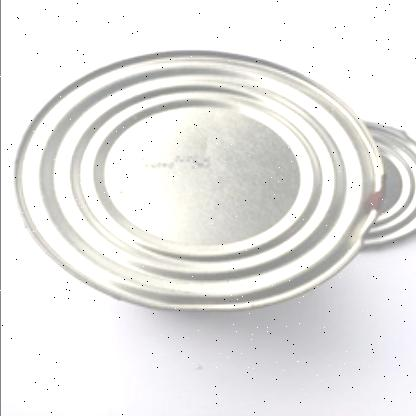Can: (12, 50, 384, 312), (356, 120, 416, 250)
